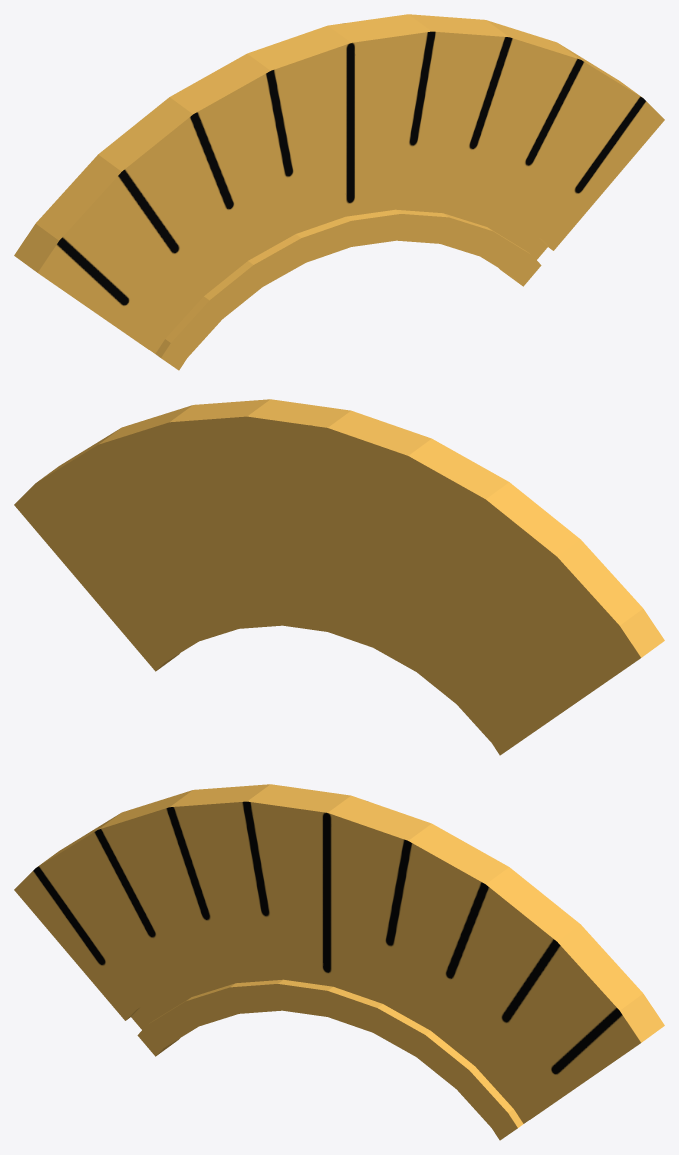
The model's file is scale_display.fbx.
3 views of the same model, one above another, from view 1: azimuth 30°, elevation 25°; view 2: azimuth 150°, elevation 25°; view 3: azimuth 330°, elevation 25° (orthographic).
Parts seen in each view (by area): view 1: Cylinder; view 2: Cylinder; view 3: Cylinder.
Part boxes in pixels (bbox=[...]): Cylinder: bbox=[14, 14, 664, 370]; Cylinder: bbox=[14, 399, 664, 755]; Cylinder: bbox=[14, 784, 664, 1140].
Bounding box in the file's own units: 88.66 × 38.61 × 5.79.
